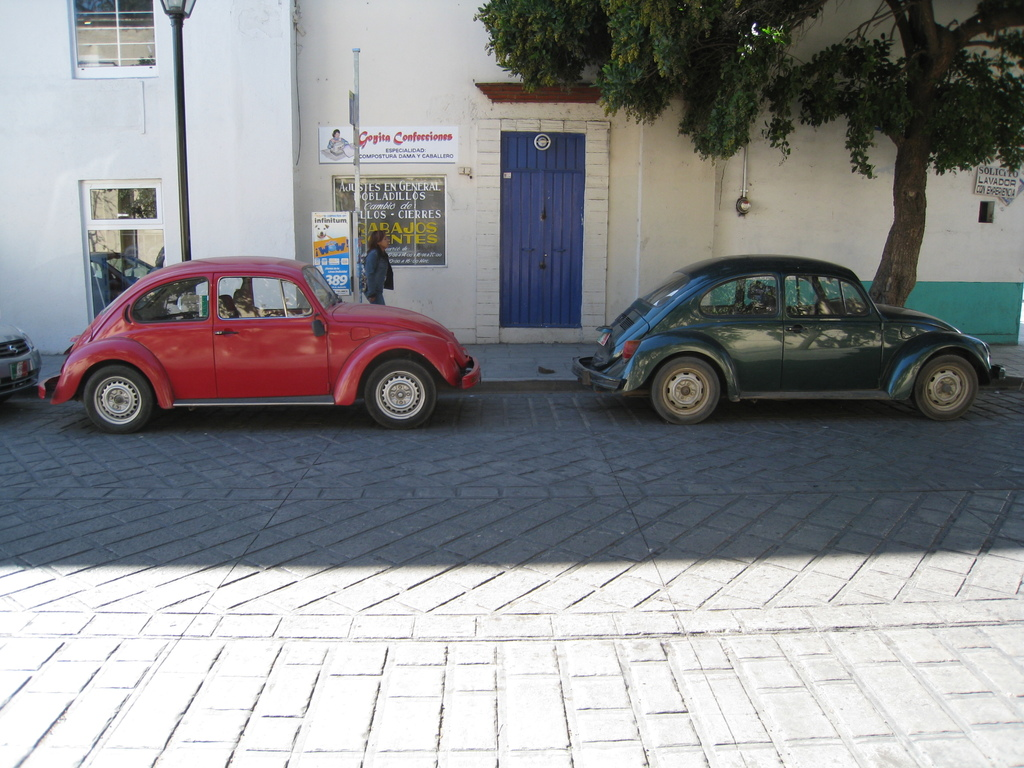Car: (570, 255, 1011, 430), (39, 251, 482, 425), (0, 325, 31, 400)
